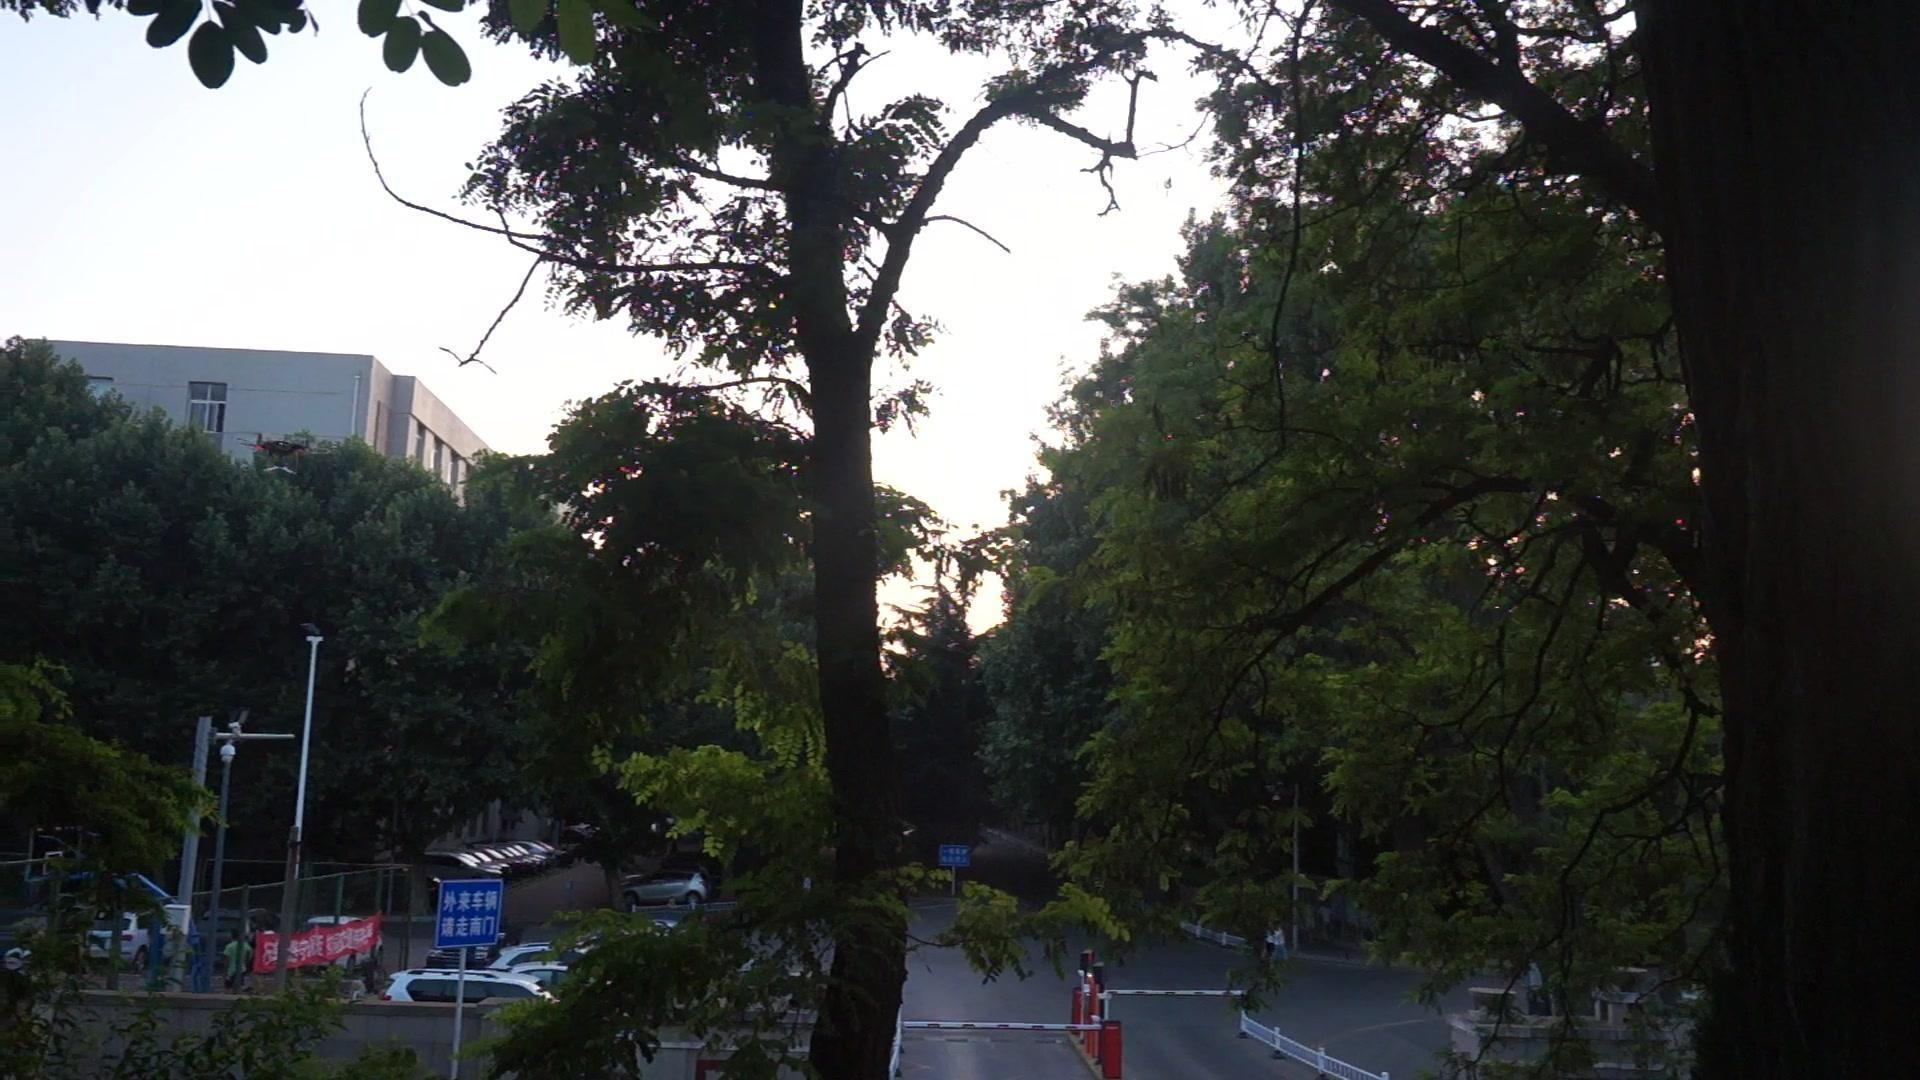UAV: (237, 433, 334, 477)
